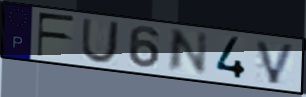4: (214, 35, 249, 82)
6: (127, 25, 162, 70)
F: (35, 11, 77, 58)
N: (165, 28, 211, 75)
U: (79, 17, 122, 65)
V: (254, 39, 298, 87)
